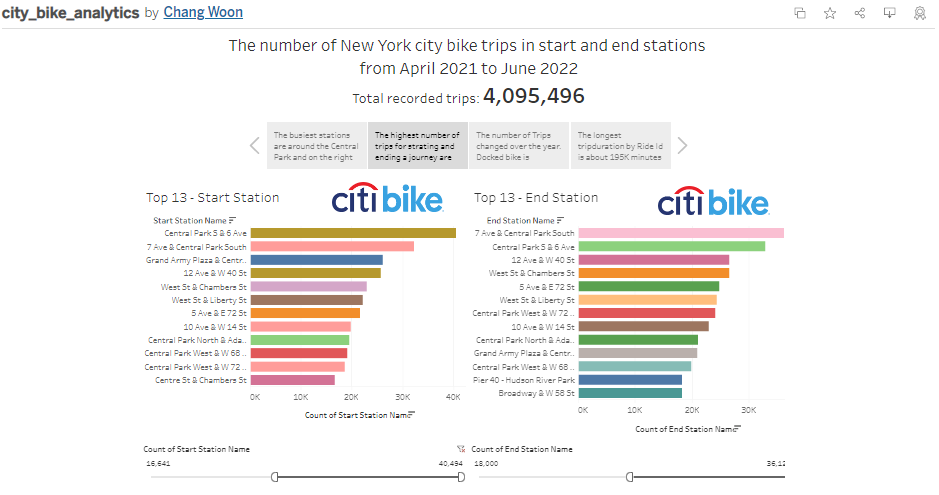

What the dashboard file says about the page in this screenshot:
{"tool":"tableau","page":{"name":"Dashboard 2","canvas":[1000,800],"ordinal":1},"visuals":[{"type":"worksheet","title":"Top 15-Start","mark":"Automatic","rows":["start_station_name"],"cols":["start_station_name"],"box":[8,8,492,388]},{"type":"worksheet","title":"Top 15-End","mark":"Automatic","rows":["end_station_name"],"cols":["end_station_name"],"box":[500,8,492,388]},{"type":"image","param":"/var/folders/sl/87pnhpys67xgythxf5mp5jy00000gn/T/tableau-temp/06j31xi0on4t9y17lk","box":[295,9,184,44]},{"type":"image","param":"/var/folders/sl/87pnhpys67xgythxf5mp5jy00000gn/T/tableau-temp/06j31xi0on4t9y17lk","box":[784,14,184,44]},{"type":"filter","title":"Top 15-Start","param":"[federated.0hfu42c167s23h17iz5j9054lt0d].[cnt:start_station_name:qk]","box":[8,396,492,396]},{"type":"filter","title":"Top 15-End","param":"[federated.0hfu42c167s23h17iz5j9054lt0d].[cnt:end_station_name:qk]","box":[500,396,492,396]}]}

Visuals, with their boxes on the page's 1000x800 design canvas (x1, y1, x2, y2). These are canvas units, not pixel positions in the 939x495 screenshot, which may show the page scaled, cropped or inside an application window:
"Top 15-Start" worksheet: detection(8, 8, 500, 396)
"Top 15-End" worksheet: detection(500, 8, 992, 396)
image: detection(295, 9, 479, 53)
image: detection(784, 14, 968, 58)
"Top 15-Start" filter: detection(8, 396, 500, 792)
"Top 15-End" filter: detection(500, 396, 992, 792)
